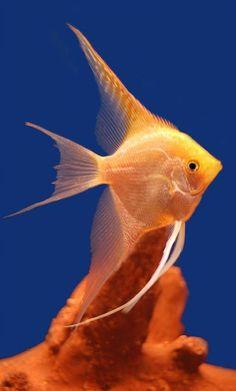goldfish: (36, 102, 230, 274)
